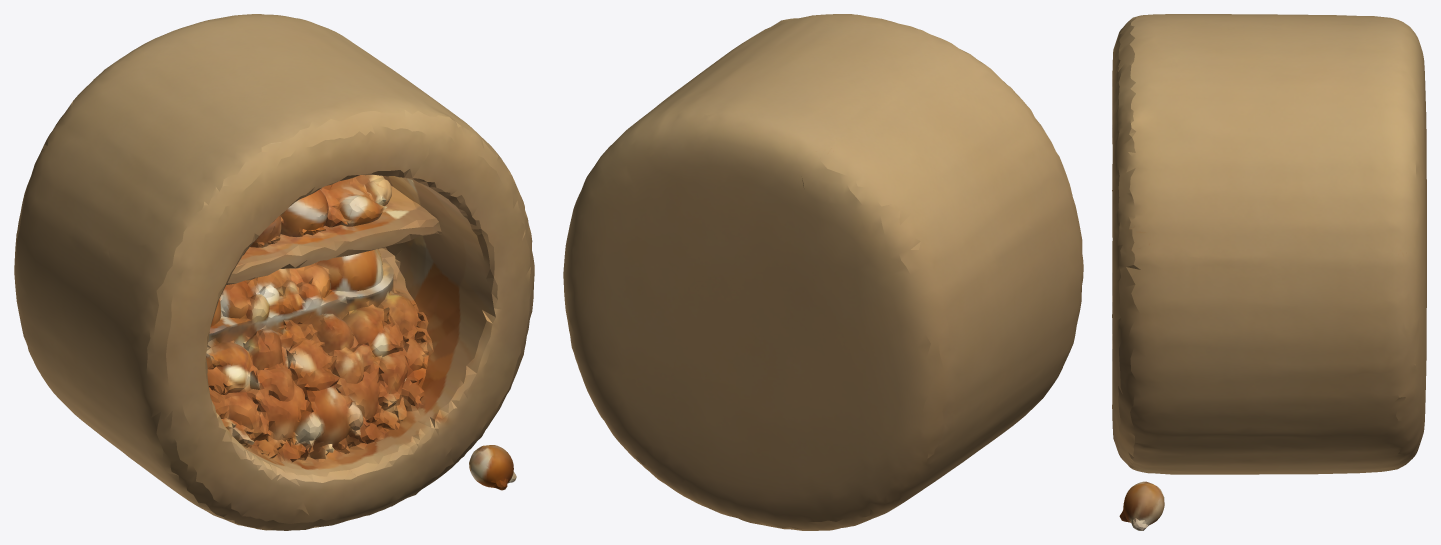
The picture shows the model from 3 angles, left to right: view 1: azimuth 30°, elevation 25°; view 2: azimuth 150°, elevation 25°; view 3: azimuth 270°, elevation 25°; orthographic projection.
Parts seen in each view (by area): view 1: 021; view 2: 021; view 3: 021.
Boxes of the visible parts, x1,y1,x2,y2 form: 021: (14, 14, 534, 530); 021: (563, 14, 1083, 530); 021: (1112, 14, 1426, 530).
Bounding box in the file's own units: 1.9 × 1.9 × 1.33.
1 material, 1 textured.
